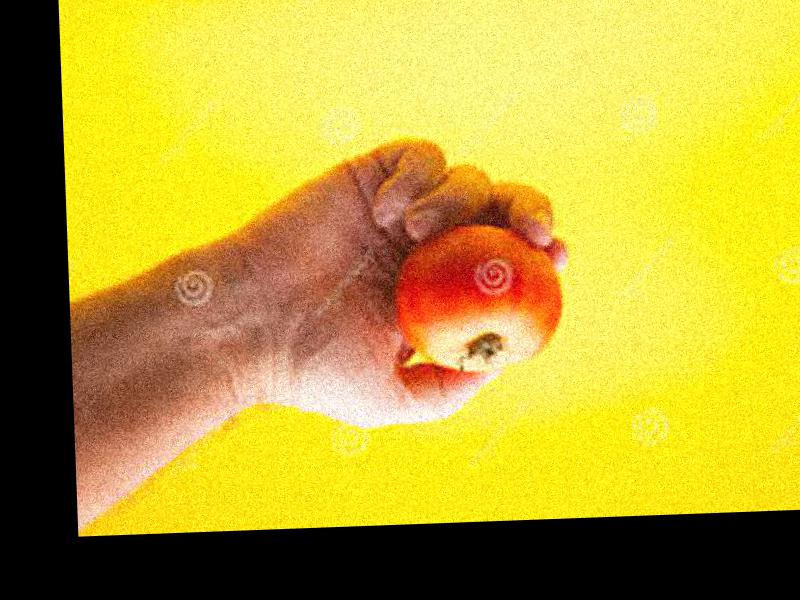Tomato: (393, 222, 562, 373)
